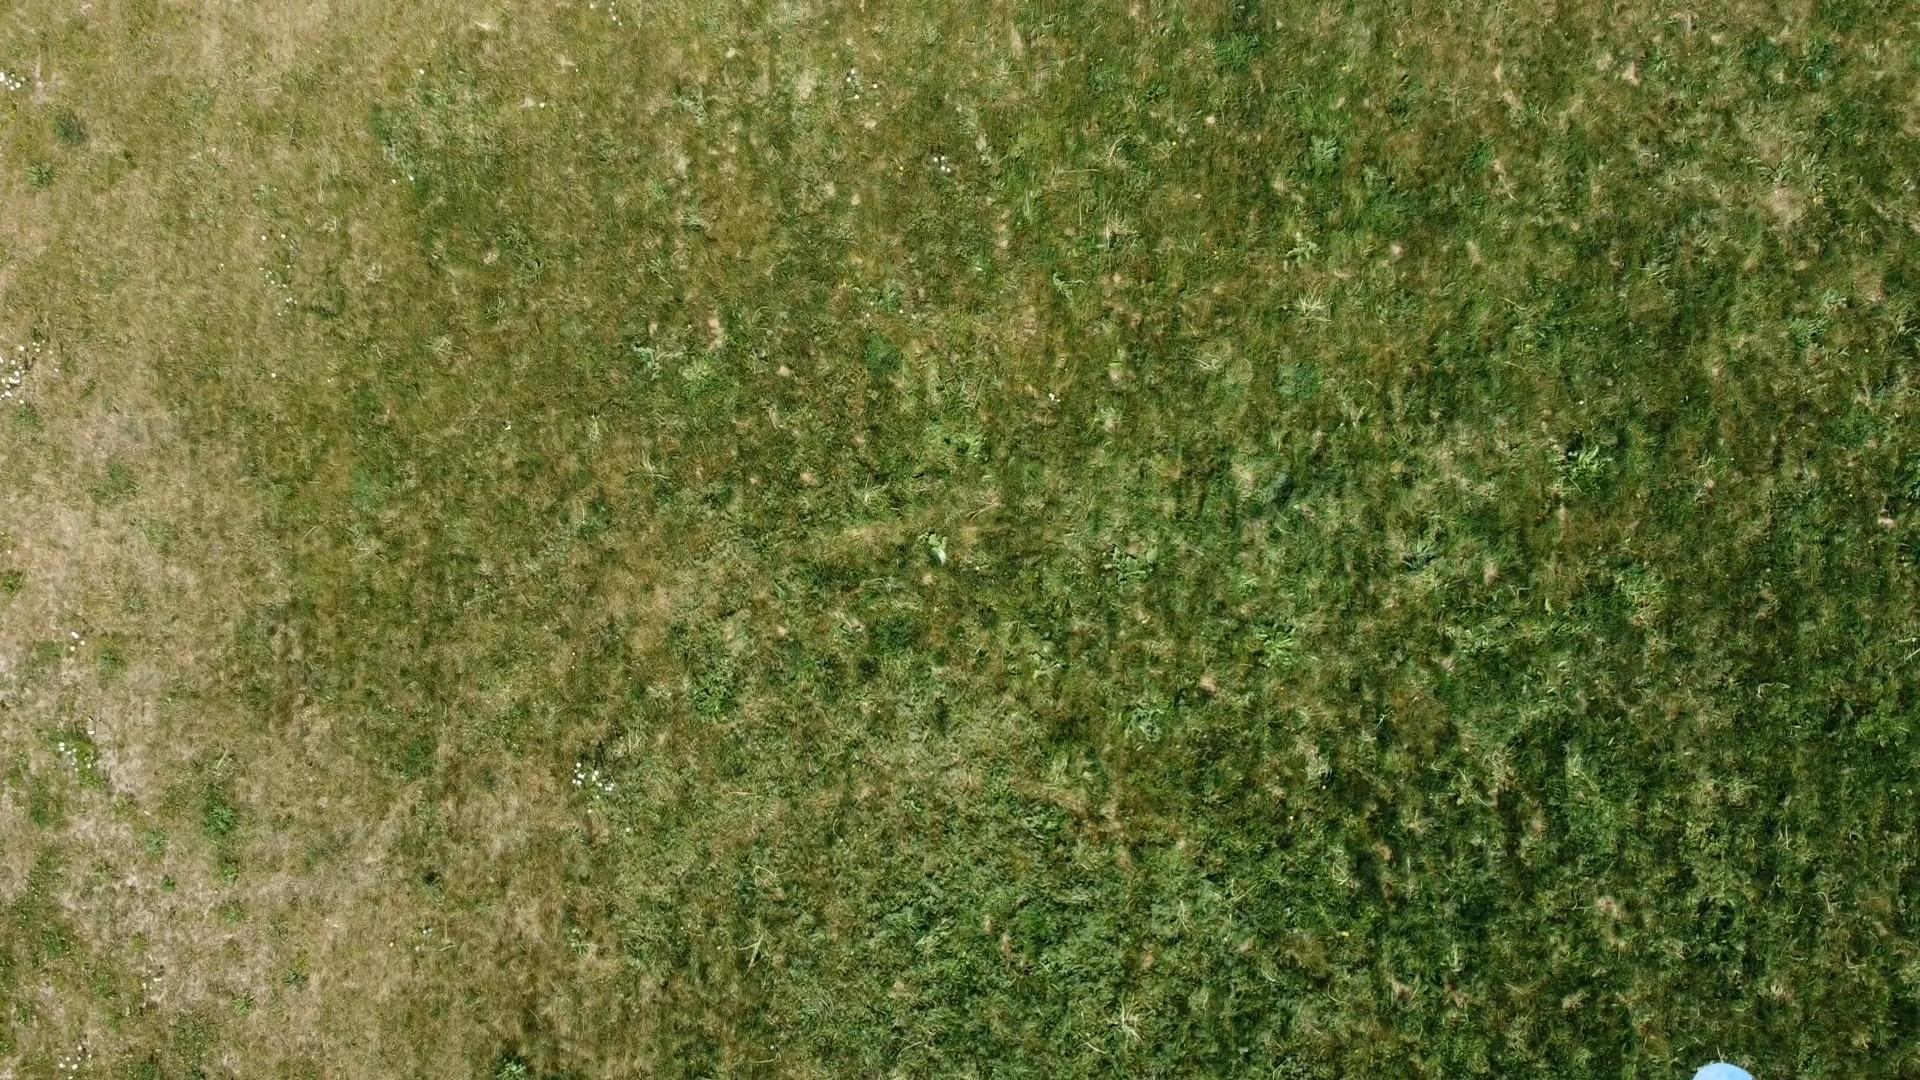Blue: (1692, 1062, 1758, 1080)
